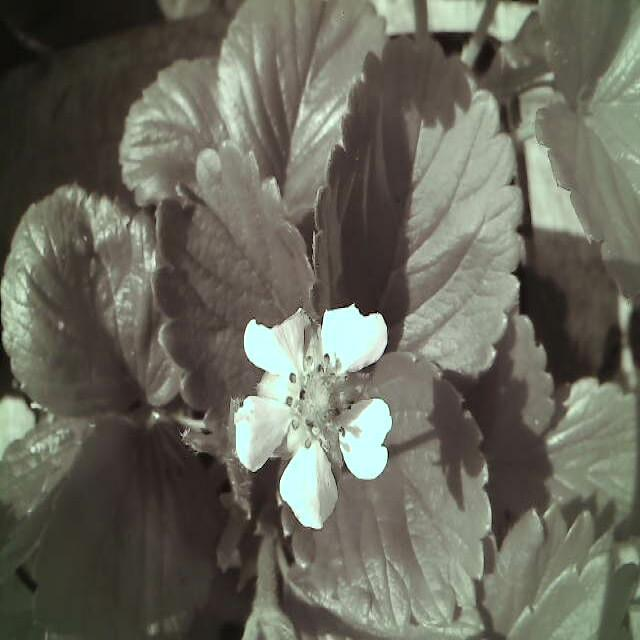flower: (228, 299, 390, 535)
